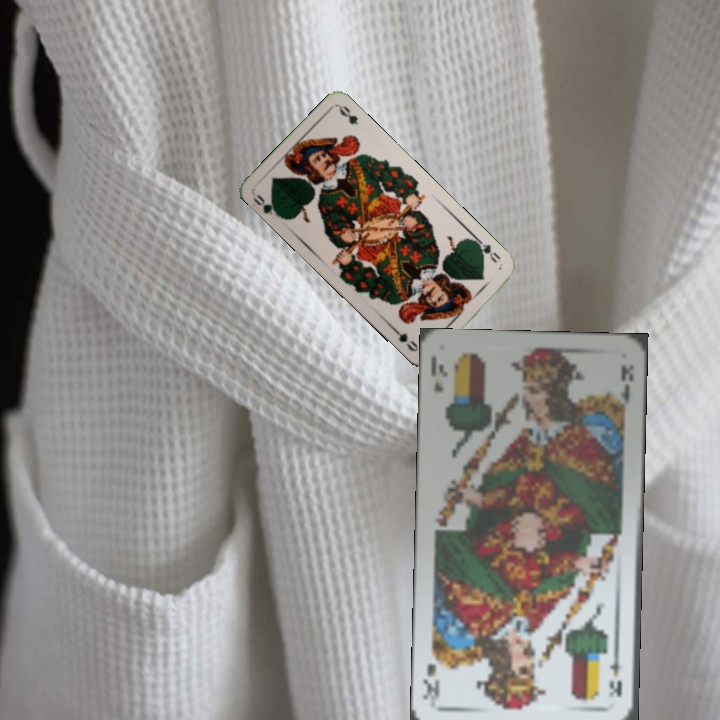EK: (427, 353, 451, 395), (605, 648, 624, 700)
GO: (249, 190, 284, 221), (470, 234, 503, 266)
